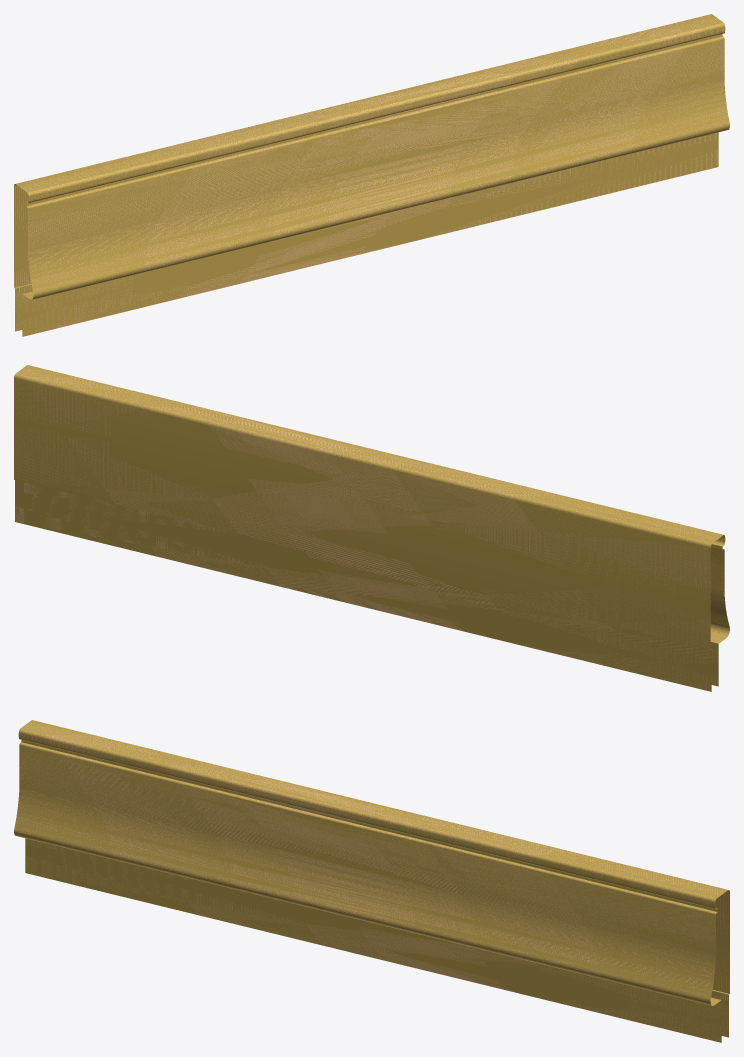
File: original-68.obj
3 renders of one model, top to bottom at view 1: azimuth 30°, elevation 25°; view 2: azimuth 150°, elevation 25°; view 3: azimuth 330°, elevation 25°, orthographic.
Parts seen in each view (by area): view 1: RB_11_TC1/RB_11_TC/mesh46/mesh46-geometry#mesh46-geometry; view 2: RB_11_TC1/RB_11_TC/mesh46/mesh46-geometry#mesh46-geometry; view 3: RB_11_TC1/RB_11_TC/mesh46/mesh46-geometry#mesh46-geometry.
Part boxes in pixels (x1,y1,x2,y2): RB_11_TC1/RB_11_TC/mesh46/mesh46-geometry#mesh46-geometry: [14, 14, 729, 336]; RB_11_TC1/RB_11_TC/mesh46/mesh46-geometry#mesh46-geometry: [14, 365, 729, 691]; RB_11_TC1/RB_11_TC/mesh46/mesh46-geometry#mesh46-geometry: [14, 720, 729, 1042].
Bounding box in the file's own units: 0.4801 × 0.0974 × 0.0232.
